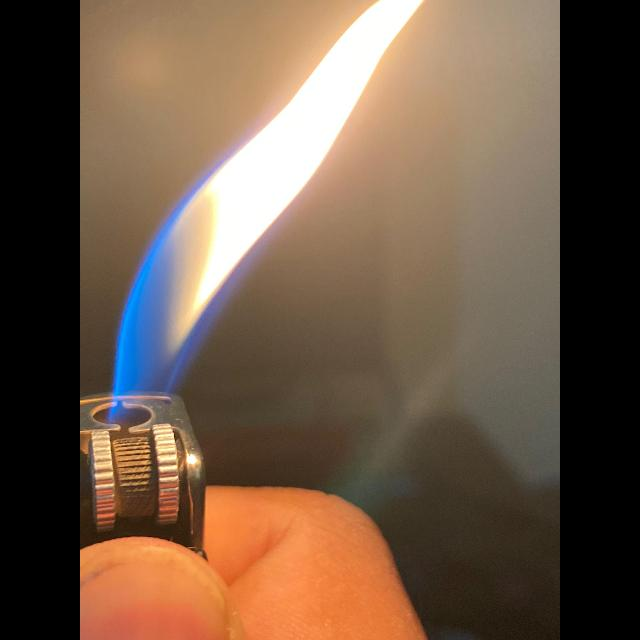fire: (112, 0, 424, 398), (372, 358, 450, 472)
